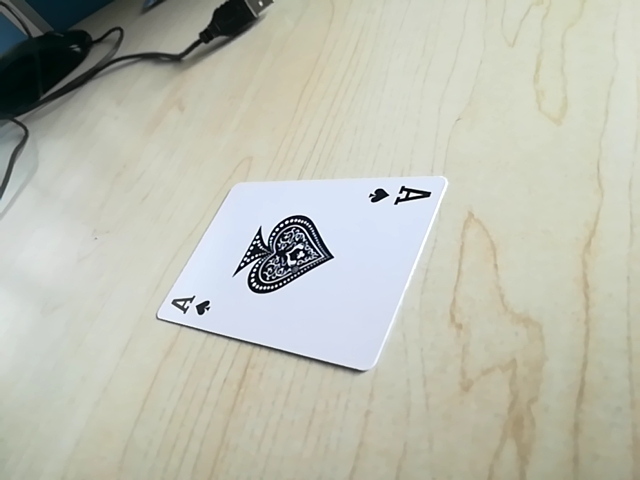ht a: (363, 179, 435, 211), (156, 293, 216, 327)
